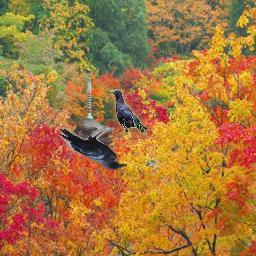Crow: (59, 128, 127, 171), (111, 89, 148, 137)
